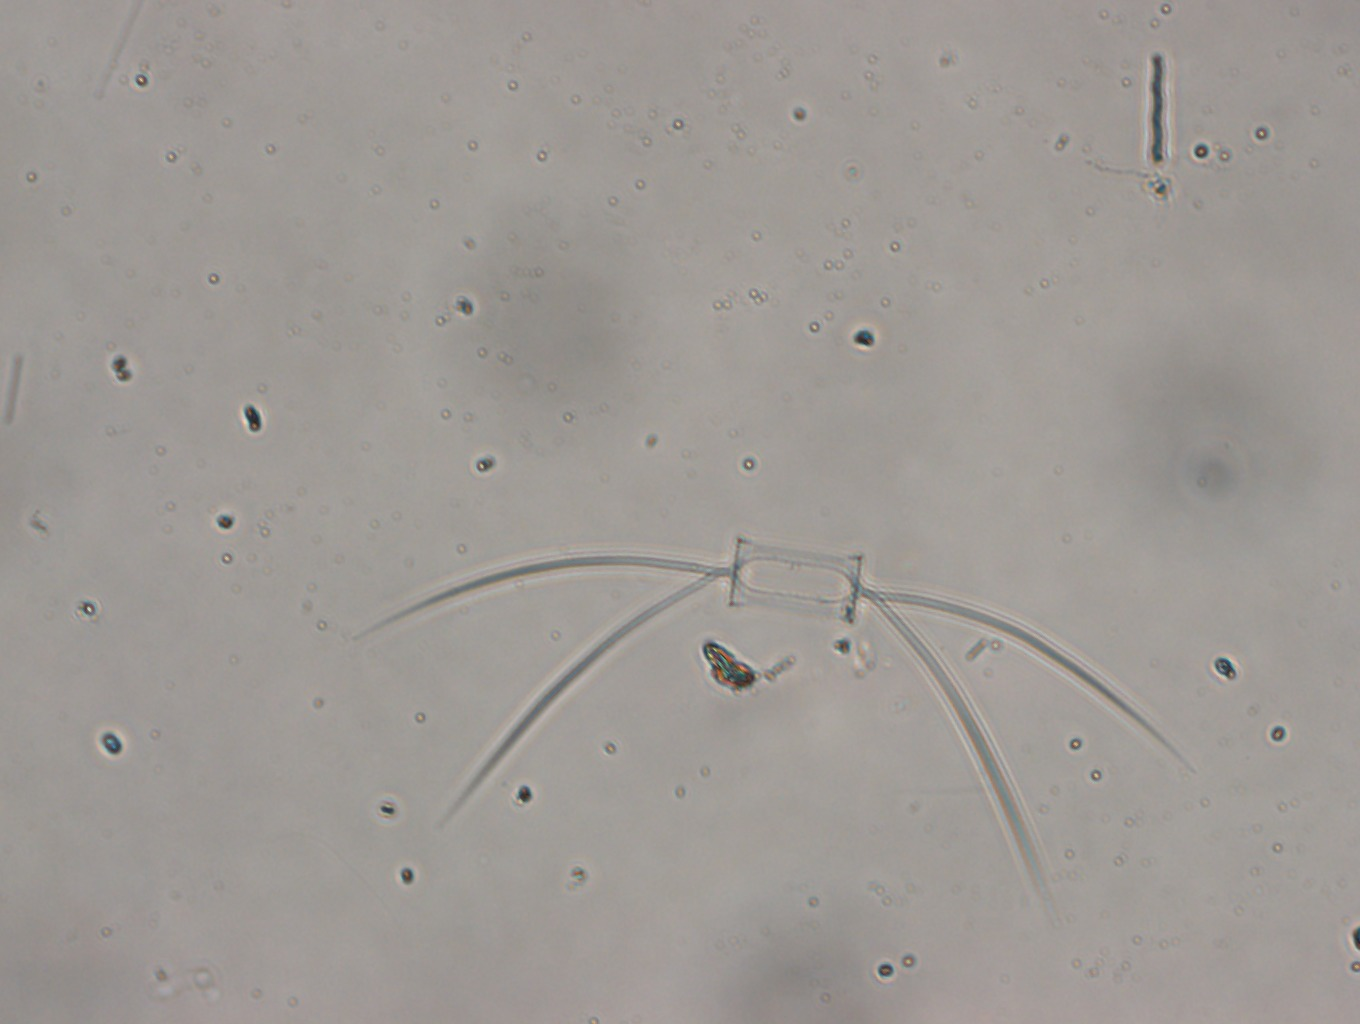chaetoceros: (362, 529, 1187, 906)
